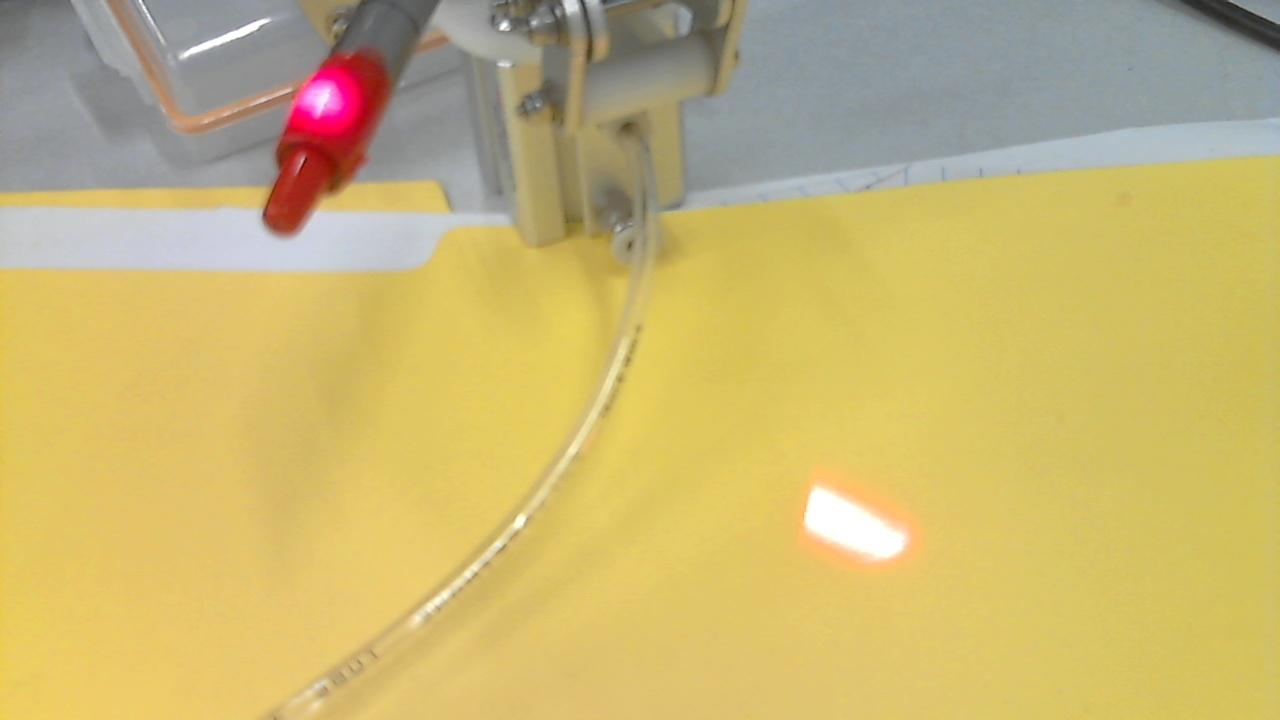Object ballpoint pen - Material plastic - Color red - Pdfname Tg2wygrqE5uZ: (280, 67, 369, 139)
